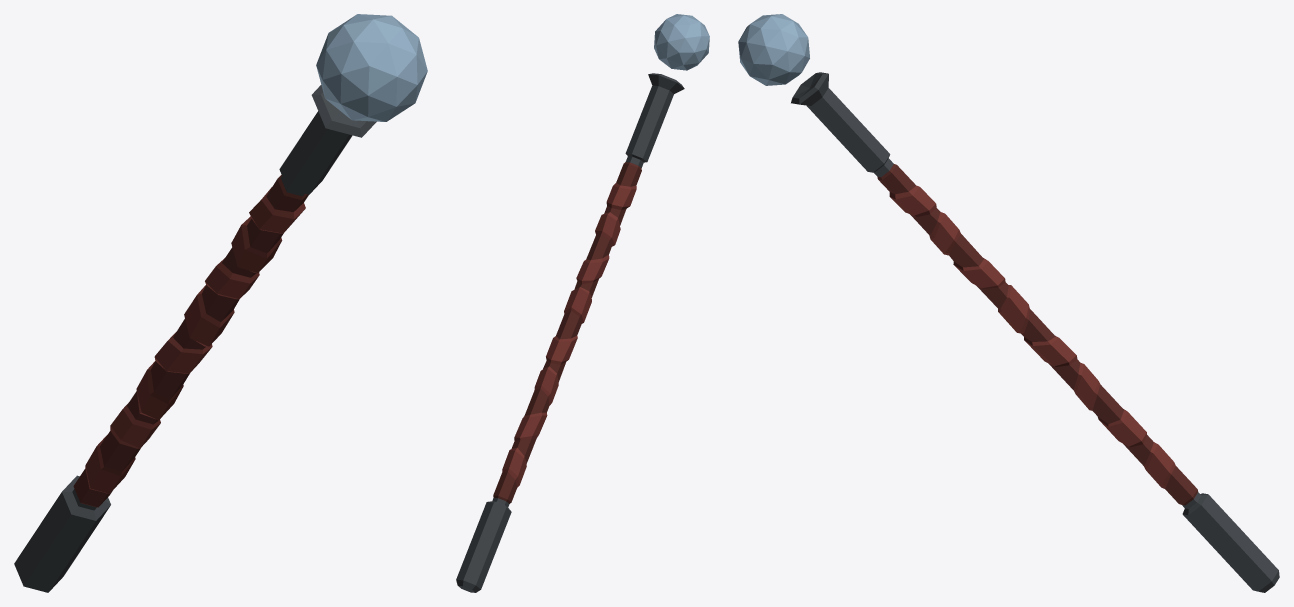
File: fk-staff-03.glb
3 views of the same model, side by side, from view 1: azimuth 30°, elevation 25°; view 2: azimuth 150°, elevation 25°; view 3: azimuth 270°, elevation 25° (orthographic). The views are drawn at different scales.
Visible parts, largest first — view 1: fk-staff-03; view 2: fk-staff-03; view 3: fk-staff-03.
Part boxes in pixels (box(x1,y1,x2,y2)): fk-staff-03: box(14, 14, 427, 592); fk-staff-03: box(456, 14, 709, 592); fk-staff-03: box(738, 14, 1279, 592).
Size of the model in its own units: 0.1527 by 1.16 by 1.01.
1 material, 1 textured.
